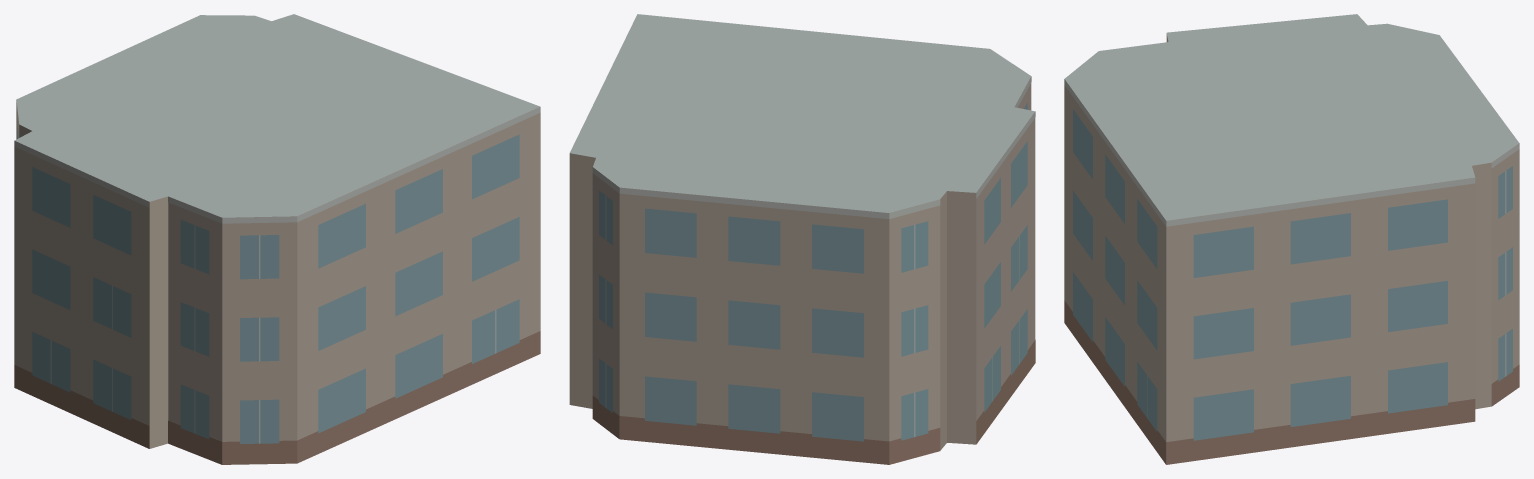
File: survey-upis-32642120.glb
3 renders of one model, left to right at view 1: azimuth 30°, elevation 25°; view 2: azimuth 150°, elevation 25°; view 3: azimuth 270°, elevation 25°, orthographic. The views are drawn at different scales.
Parts seen in each view (by area): view 1: survey-upis-32642120.tmp; view 2: survey-upis-32642120.tmp; view 3: survey-upis-32642120.tmp.
Boxes of the visible parts, bbox=[...] form: survey-upis-32642120.tmp: bbox=[14, 14, 540, 464]; survey-upis-32642120.tmp: bbox=[569, 14, 1035, 464]; survey-upis-32642120.tmp: bbox=[1064, 14, 1519, 464].
Bounding box in the file's own units: 18.37 × 10.1 × 17.08.
